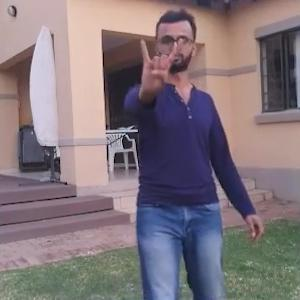takeoff-hand: (131, 24, 181, 102)
